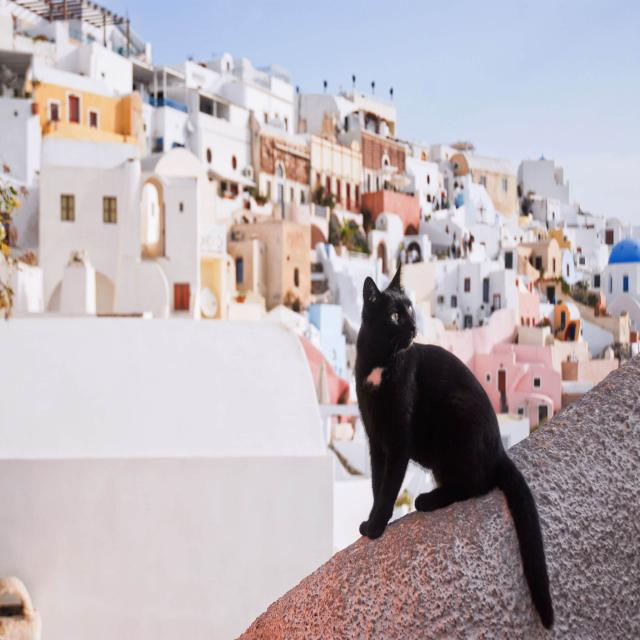cat: (355, 267, 554, 628)
